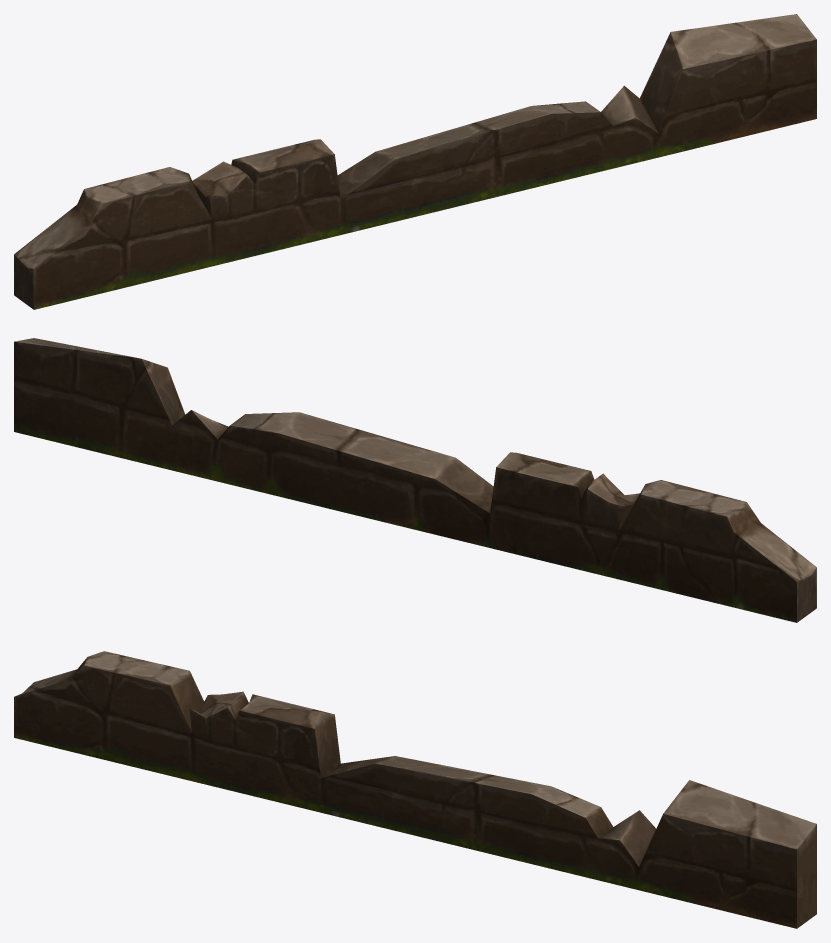
Rendered from yi_poqiang_3.FBX.
3 renders of one model, top to bottom at view 1: azimuth 30°, elevation 25°; view 2: azimuth 150°, elevation 25°; view 3: azimuth 330°, elevation 25°, orthographic.
Visible parts, largest first — view 1: yi_poqiang_3; view 2: yi_poqiang_3; view 3: yi_poqiang_3.
Boxes of the visible parts, x1,y1,x2,y2 form: yi_poqiang_3: (14, 14, 816, 309); yi_poqiang_3: (14, 338, 816, 622); yi_poqiang_3: (14, 651, 816, 928).
Size of the model in its own units: 4792 by 607 by 213.
